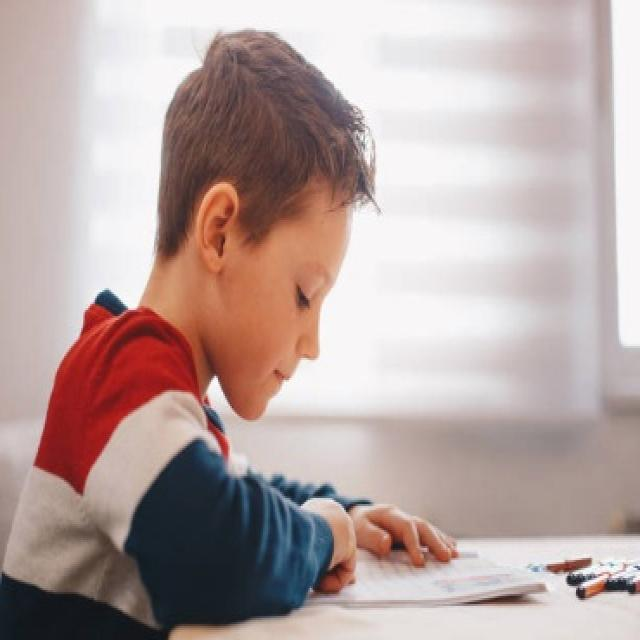child: (4, 25, 464, 629)
